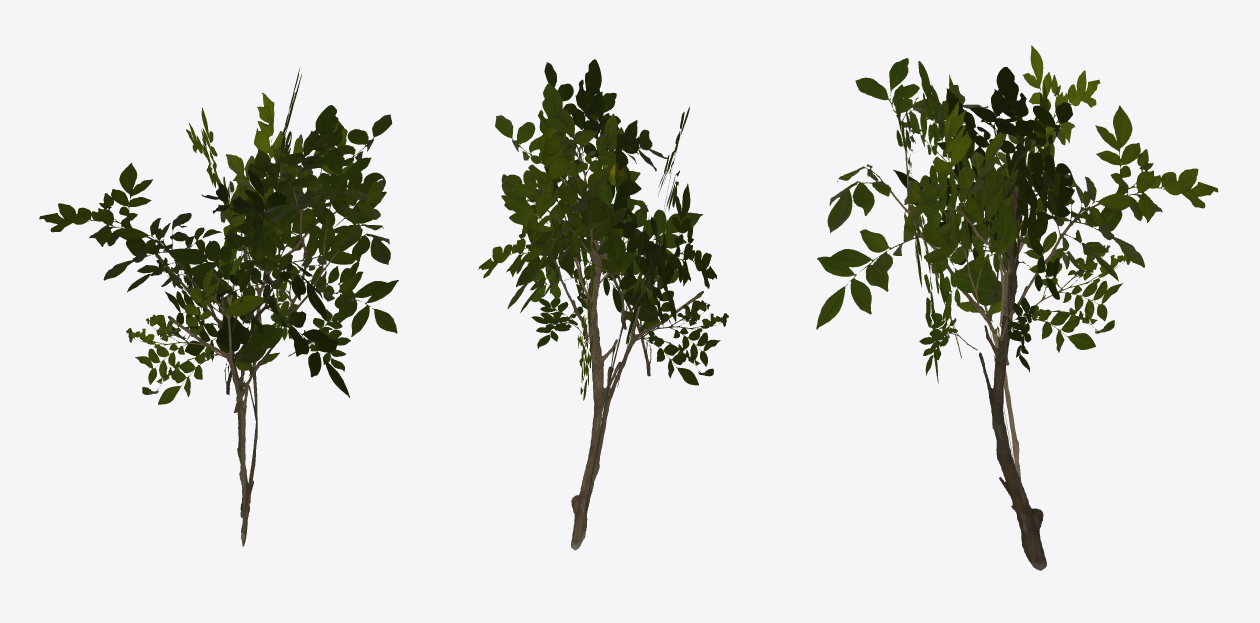
Rendered from Tree_Alone.fbx.
3 renders of one model, left to right at view 1: azimuth 30°, elevation 25°; view 2: azimuth 150°, elevation 25°; view 3: azimuth 270°, elevation 25°, orthographic. The views are drawn at different scales.
Visible parts, largest first — view 1: Lemon; view 2: Lemon; view 3: Lemon.
Boxes of the visible parts, x1=… form: Lemon: x1=39, y1=68, x2=398, y2=546; Lemon: x1=478, y1=59, x2=728, y2=550; Lemon: x1=816, y1=45, x2=1218, y2=570.
Size of the model in its own units: 968 by 1496 by 1056.
